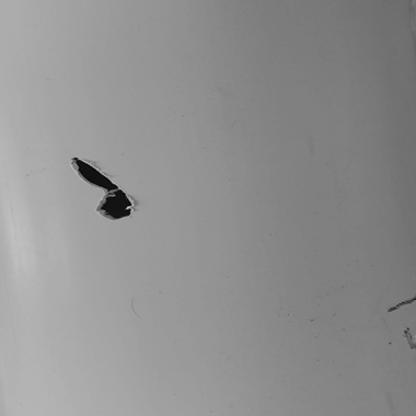fengxi: (387, 296, 416, 316), (401, 330, 416, 351)
kongdong: (67, 157, 139, 221)
